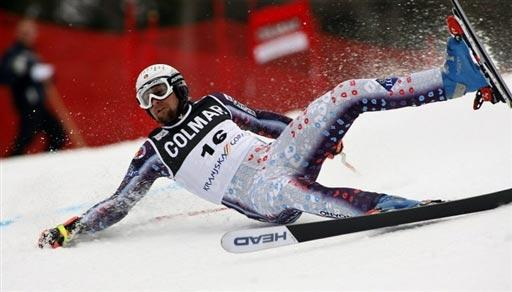fall: (40, 47, 512, 241)
